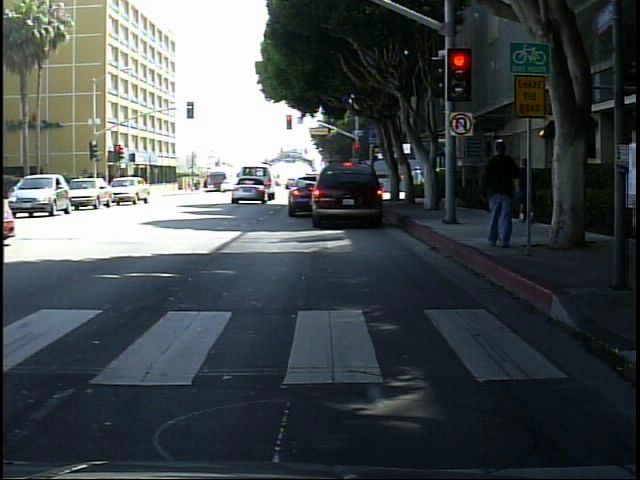person: (476, 129, 523, 258), (517, 147, 544, 232)
